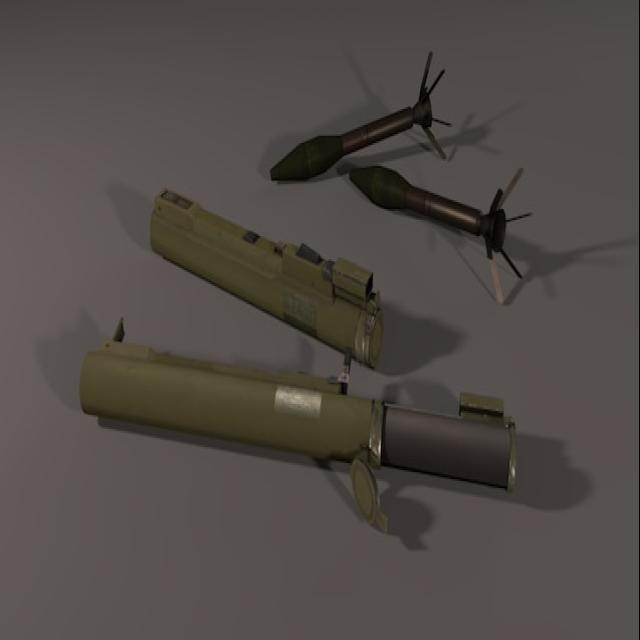rocket: (58, 158, 576, 554)
